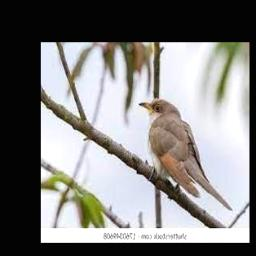Cuckoo: (139, 99, 233, 211)
